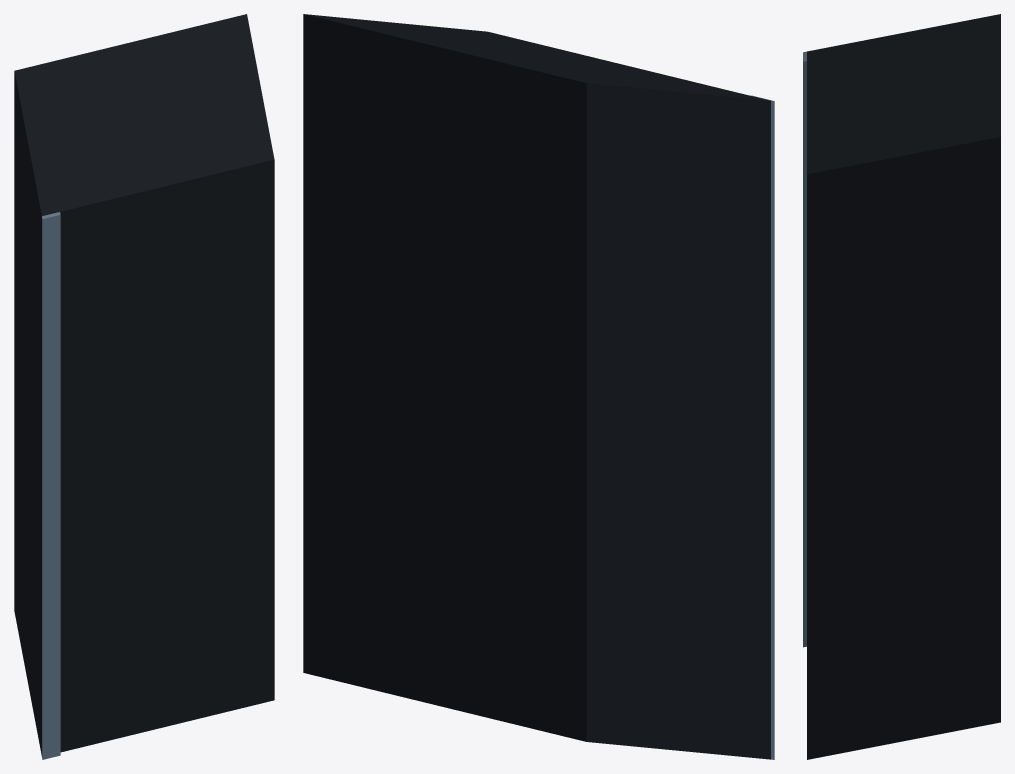
The model's file is Hall_Column.gltf.
3 renders of one model, left to right at view 1: azimuth 30°, elevation 25°; view 2: azimuth 150°, elevation 25°; view 3: azimuth 270°, elevation 25°, orthographic. The views are drawn at different scales.
Visible parts, largest first — view 1: Hall_Column_baked; view 2: Hall_Column_baked; view 3: Hall_Column_baked.
Boxes of the visible parts, x1,y1,x2,y2 form: Hall_Column_baked: (14, 14, 274, 759); Hall_Column_baked: (303, 14, 774, 759); Hall_Column_baked: (803, 14, 1000, 759).
Size of the model in its own units: 0.5724 by 1.12 by 0.306.
